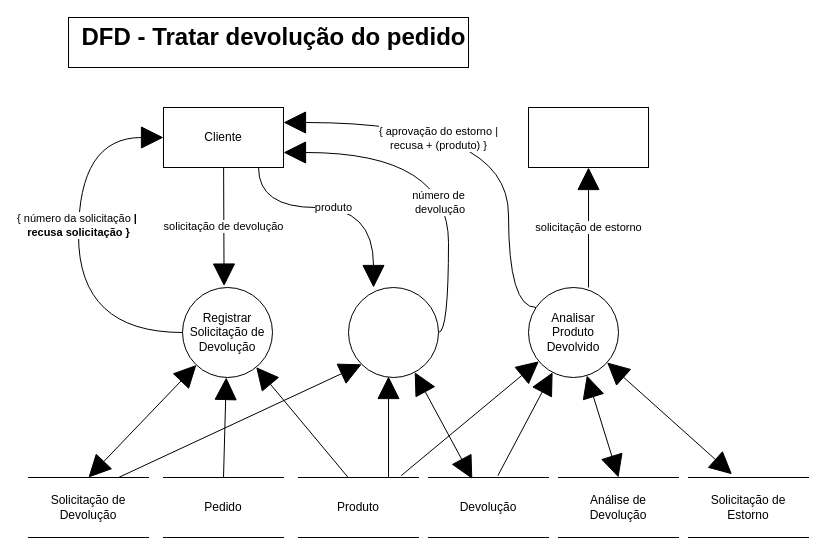
Some shapes in this 826 by 555 pixel diagram are drawn without their labels. Here are the shapes that lost their labels. From the top down, the centre of each, then its label:
the point at 588,137: Financeiro
the point at 393,332: Receber Produto
